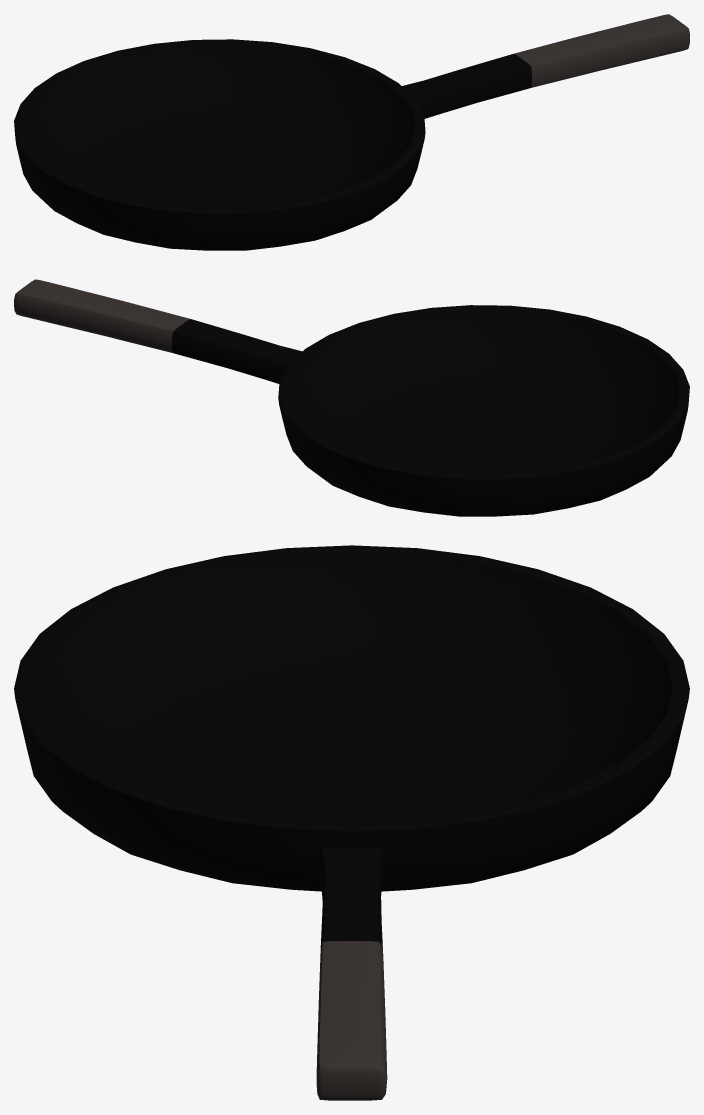
File: HP_pan_2.obj
The picture shows the model from 3 angles, top to bottom: view 1: azimuth 30°, elevation 25°; view 2: azimuth 150°, elevation 25°; view 3: azimuth 270°, elevation 25°; orthographic projection. The views are drawn at different scales.
Parts seen in each view (by area): view 1: HP_pan_2.001; view 2: HP_pan_2.001; view 3: HP_pan_2.001.
Part boxes in pixels (box(x1,y1,x2,y2)): HP_pan_2.001: box(14, 14, 689, 250); HP_pan_2.001: box(14, 279, 689, 516); HP_pan_2.001: box(14, 545, 689, 1100).
Bounding box in the file's own units: 0.4438 × 0.0312 × 0.2478.
